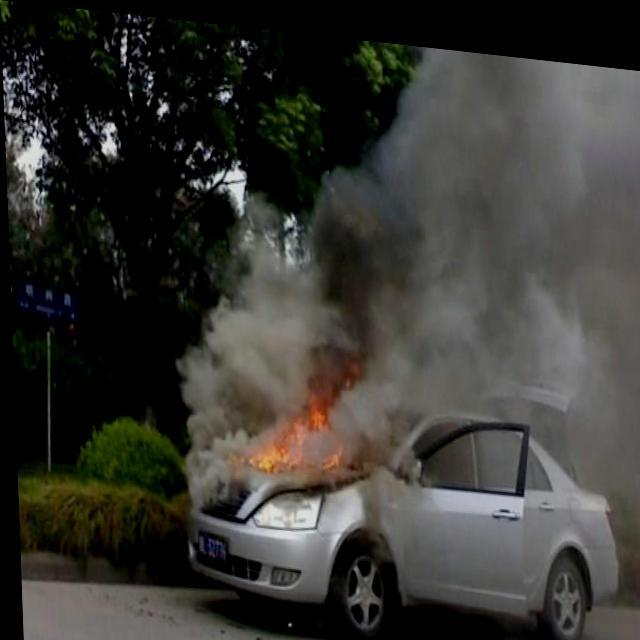Fire: (208, 329, 382, 508)
